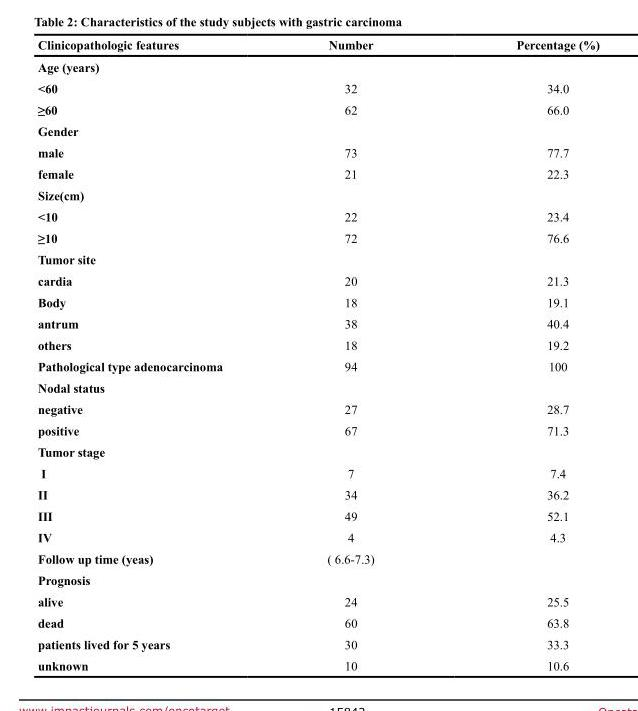table: (37, 37, 598, 672)
table column: (37, 37, 274, 672), (274, 37, 444, 672), (444, 37, 598, 672)
table column header: (37, 37, 598, 55)
table projected row header: (37, 55, 598, 77), (37, 376, 598, 398), (37, 440, 598, 462), (37, 120, 598, 141), (37, 184, 598, 205), (37, 248, 598, 269), (37, 569, 598, 590)
table row: (37, 55, 598, 77), (37, 98, 598, 120), (37, 162, 598, 184), (37, 205, 598, 227), (37, 269, 598, 291), (37, 333, 598, 355), (37, 376, 598, 398), (37, 440, 598, 462), (37, 504, 598, 526), (37, 547, 598, 569), (37, 611, 598, 633), (37, 77, 598, 98), (37, 120, 598, 141), (37, 141, 598, 162), (37, 184, 598, 205), (37, 227, 598, 248), (37, 248, 598, 269), (37, 291, 598, 312), (37, 312, 598, 333), (37, 355, 598, 376), (37, 398, 598, 419), (37, 419, 598, 440), (37, 462, 598, 483), (37, 483, 598, 504), (37, 526, 598, 547), (37, 569, 598, 590), (37, 590, 598, 611), (37, 633, 598, 654), (37, 37, 598, 55), (37, 654, 598, 672)
